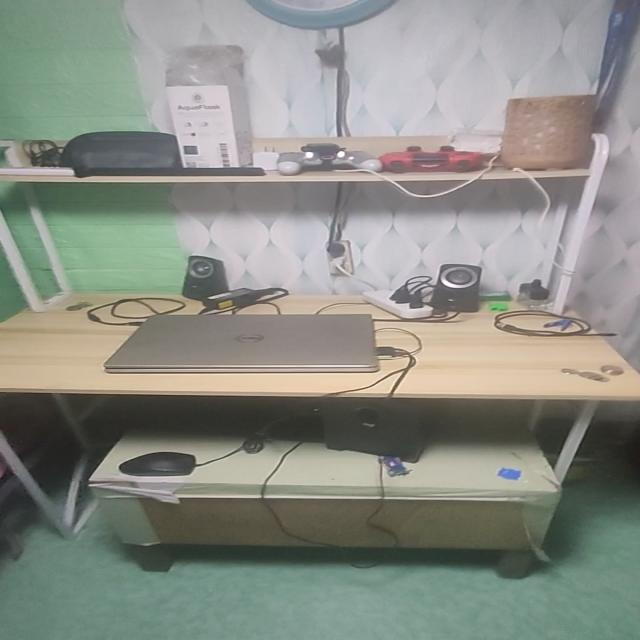table: (0, 283, 638, 589)
